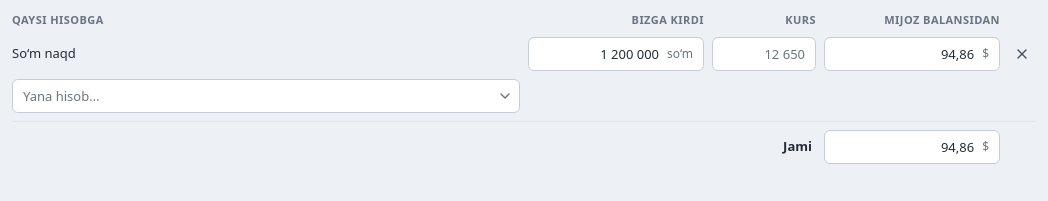
Scenario: the ready lines › let the one who sets rates give a line its own, or read it off an agreed sum
Check: the 3rd field holds "94,86", box [825,38,978,70]
Type "12000" into the field with placeholder "12 650". click: (764, 54)
box: [712,36,816,70]
Then press Tab
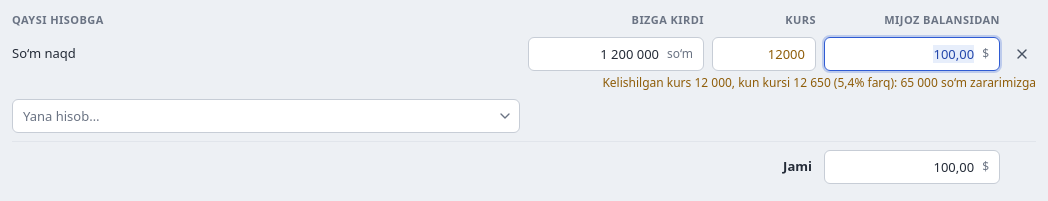
Check: the 3rd field holds "100,00"
Check: the text "Kelishilgan kurs 12 000, kun kursi 12 650 (5,4% farq): 65 000 so‘m zararimizga" is shown, box [602,74,1036,90]
Replace the text in the 3rd field with "96". click: (902, 54)
box: [825,38,978,70]
Then press Tab
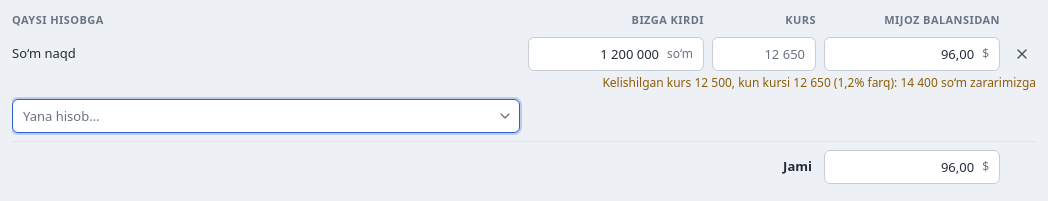
Check: the field with placeholder "12 650" is empty, box [712,36,816,70]
Check: the text "Kelishilgan kurs 12 500" is shown, box [602,74,1036,90]
The money typed again goes back to the day's rate, and the rate field to showing it faintly.
Replace the text in the 1st field with "1265000". click: (596, 54)
box: [529,38,663,70]
Then press Tab
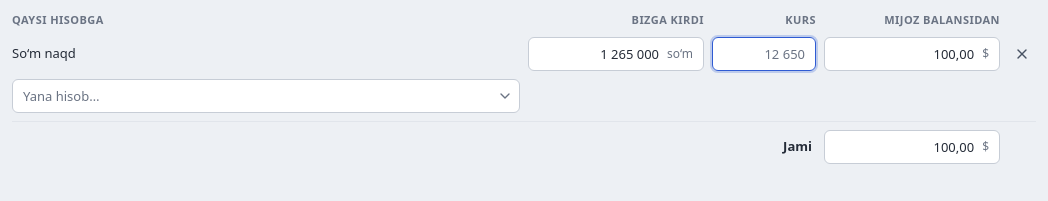
Check: the field with placeholder "12 650" is empty, box [712,36,816,70]
Check: the 3rd field holds "100,00", box [825,38,978,70]
